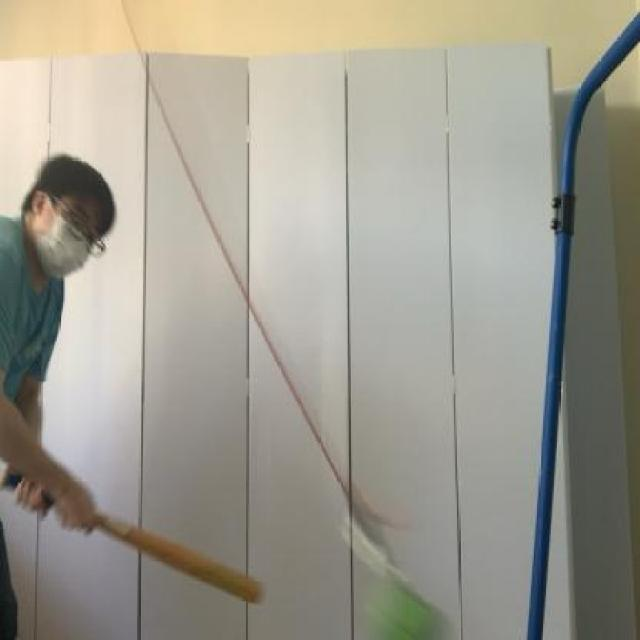baseball: (357, 574, 455, 640)
